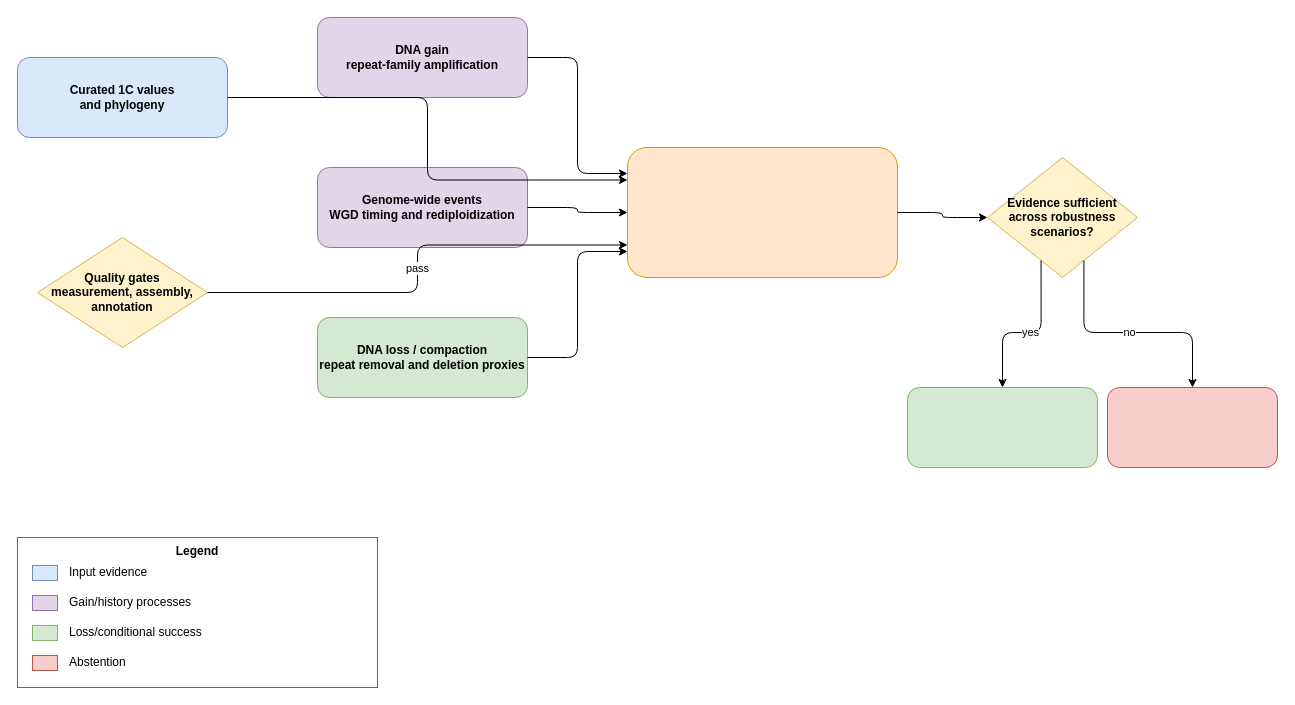
The diagram is 1295 pixels wide and 705 high, and some of its shapes have lost their labels. The shapes that lost their labels are listed below. From the top down, each one's centre as x and y in pixels, then its label:
[762,212]: GenomeFlux phylogenetically paired gain-loss model comparison
[1002,427]: Conditional mechanism ranking and falsification
[1192,427]: EVIDENCE_OR_MODEL _ABSTAIN
